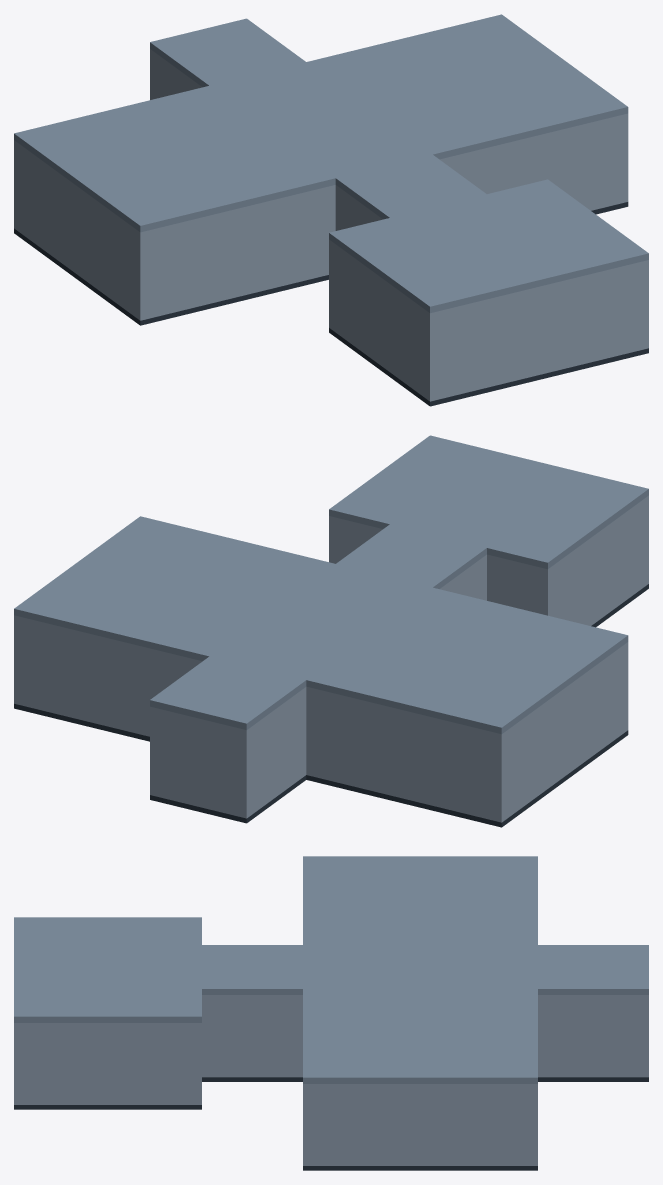
The model's file is flametrace-habitat-concept.glb.
The picture shows the model from 3 angles, top to bottom: view 1: azimuth 30°, elevation 25°; view 2: azimuth 150°, elevation 25°; view 3: azimuth 270°, elevation 25°; orthographic projection. The views are drawn at different scales.
Parts seen in each view (by area): view 1: roof-slab:research-lab, roof-slab:crew-quarters, roof-slab:stowage-bay, roof-slab:central-passage, stowage-wall-north-solid, research-lab-wall-north-solid, research-lab-wall-outer-solid, crew-quarters-wall-north-solid, stowage-wall-west-solid, floor:stowage-bay, floor:research-lab, passage-wall-west-right (+3 smaller); view 2: roof-slab:research-lab, roof-slab:crew-quarters, roof-slab:central-passage, roof-slab:stowage-bay, research-lab-wall-south-solid, crew-quarters-wall-south-solid, research-lab-wall-outer-solid, passage-wall-south-solid, stowage-wall-west-solid, passage-wall-west-left, stowage-wall-south-left, floor:research-lab (+5 smaller); view 3: roof-slab:crew-quarters, roof-slab:central-passage, roof-slab:research-lab, roof-slab:stowage-bay, crew-quarters-wall-outer-solid, stowage-wall-east-solid, passage-wall-east-left, passage-wall-east-right, floor:crew-quarters, floor:central-passage, floor:stowage-bay, passage-wall-south-solid (+3 smaller).
Boxes of the visible parts, box(x1,y1,x2,y2) form: roof-slab:research-lab: box(14, 85, 335, 232); roof-slab:crew-quarters: box(306, 14, 628, 159); roof-slab:stowage-bay: box(329, 179, 648, 313); roof-slab:central-passage: box(150, 18, 486, 219); stowage-wall-north-solid: box(424, 260, 648, 401); research-lab-wall-north-solid: box(135, 185, 335, 319); research-lab-wall-outer-solid: box(14, 140, 149, 320); crew-quarters-wall-north-solid: box(439, 114, 628, 210); stowage-wall-west-solid: box(334, 243, 439, 401); floor:stowage-bay: box(329, 328, 648, 406); floor:research-lab: box(14, 228, 328, 325); passage-wall-west-right: box(335, 185, 382, 230); roof-slab:research-lab: box(306, 587, 628, 734); roof-slab:crew-quarters: box(14, 516, 335, 661); roof-slab:central-passage: box(150, 524, 486, 730); roof-slab:stowage-bay: box(329, 435, 648, 569); research-lab-wall-south-solid: box(306, 686, 505, 821); crew-quarters-wall-south-solid: box(14, 616, 202, 736); research-lab-wall-outer-solid: box(492, 642, 628, 822); passage-wall-south-solid: box(150, 706, 252, 818); stowage-wall-west-solid: box(553, 497, 648, 625); passage-wall-west-left: box(252, 687, 306, 814); stowage-wall-south-left: box(487, 554, 553, 616); floor:research-lab: box(306, 730, 628, 827); roof-slab:crew-quarters: box(303, 989, 537, 1083); roof-slab:central-passage: box(202, 945, 648, 994); roof-slab:research-lab: box(303, 856, 537, 944); roof-slab:stowage-bay: box(14, 917, 201, 1022); crew-quarters-wall-outer-solid: box(303, 1084, 537, 1165); stowage-wall-east-solid: box(14, 1023, 191, 1104); passage-wall-east-left: box(538, 995, 638, 1077); passage-wall-east-right: box(202, 995, 302, 1077); floor:crew-quarters: box(303, 1166, 537, 1170); floor:central-passage: box(202, 1077, 648, 1081); floor:stowage-bay: box(14, 1105, 201, 1109); passage-wall-south-solid: box(639, 995, 648, 1077).
Bounding box in the file's own units: 15.6 × 3.05 × 18.9.
